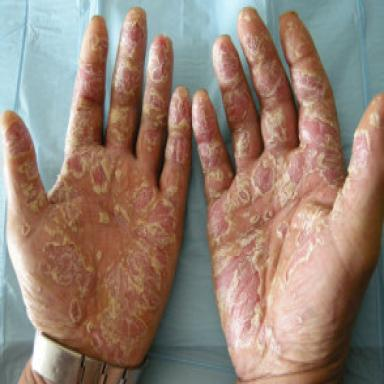eczema: (3, 9, 191, 365), (192, 9, 373, 357), (369, 111, 381, 128), (21, 222, 31, 236)
